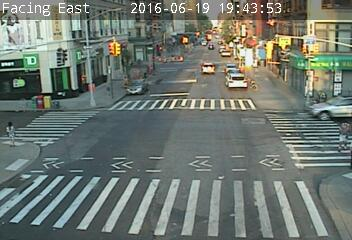neg: (299, 70, 319, 96), (271, 56, 287, 78), (114, 54, 128, 71), (255, 49, 267, 64)
pos: (332, 118, 351, 152)
